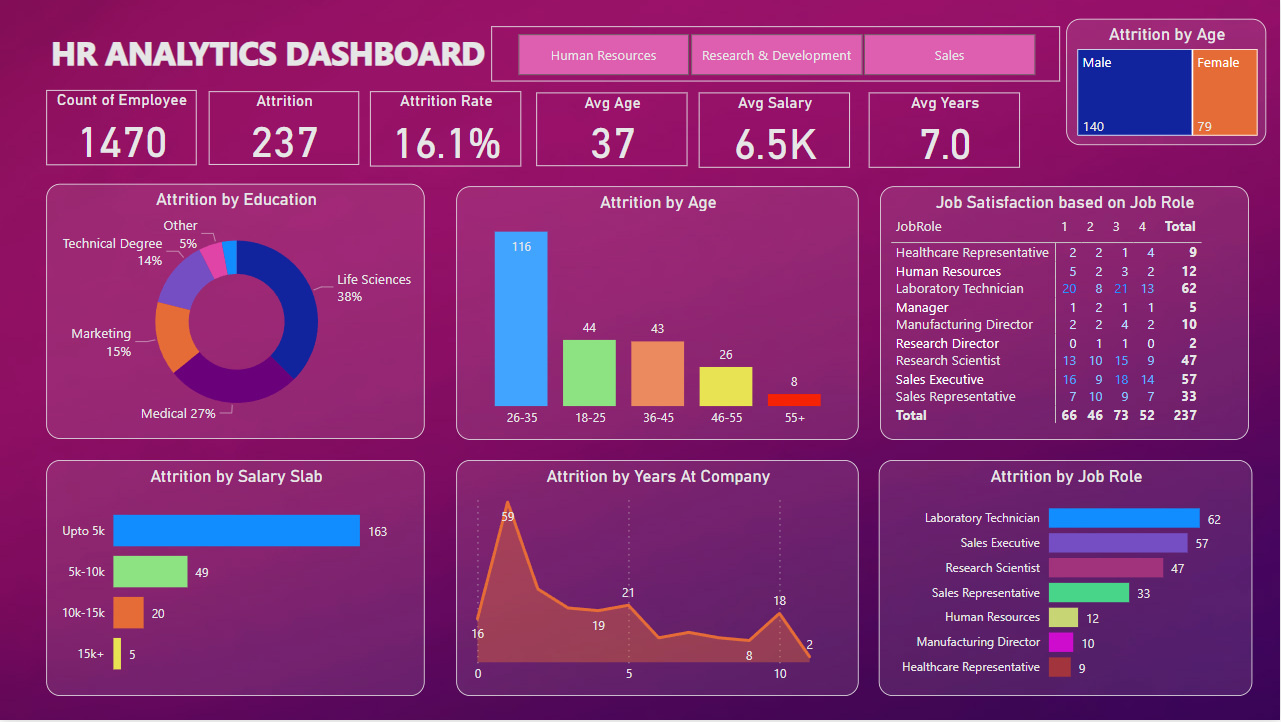

What the dashboard file says about the page in this screenshot:
{"tool":"powerbi","page":{"name":"Page 1","canvas":[1280,720],"ordinal":0},"visuals":[{"type":"card","title":"Count of Employee","fields":{"Values":["CountNonNull(HR_Analytics.EmpID)"]},"box":[46.2,90,150,75],"z":0},{"type":"card","title":"Attrition Rate","fields":{"Values":["HR_Analytics.AttritionRate"]},"box":[370,91.2,151.2,75],"z":1000},{"type":"card","title":"Avg Age","fields":{"Values":["Avg(HR_Analytics.Age)"]},"box":[536.2,92.5,151.2,73.8],"z":2000},{"type":"card","title":"Attrition ","fields":{"Values":["Sum(HR_Analytics.AttritionCount)"]},"box":[208.8,91.2,150,73.8],"z":3000},{"type":"card","title":"Avg Salary","fields":{"Values":["Avg(HR_Analytics.MonthlyIncome)"]},"box":[698.8,92.5,151.2,75],"z":4000},{"type":"card","title":"Avg Years","fields":{"Values":["Avg(HR_Analytics.YearsAtCompany)"]},"box":[868.8,92.5,151.2,75],"z":5000},{"type":"donutChart","title":"Attrition by Education","fields":{"Category":["HR_Analytics.EducationField"],"Y":["Sum(HR_Analytics.AttritionCount)"]},"box":[46.2,183.8,378.8,255],"z":6000},{"type":"columnChart","title":"Attrition by Age","fields":{"Category":["HR_Analytics.AgeGroup"],"Y":["Sum(HR_Analytics.AttritionCount)"]},"box":[456.2,186.2,402.5,253.8],"z":7000},{"type":"pivotTable","title":"Job Satisfaction based on Job Role","fields":{"Rows":["HR_Analytics.JobRole"],"Columns":["HR_Analytics.JobSatisfaction"],"Values":["Sum(HR_Analytics.AttritionCount)"]},"box":[880,186.2,368.8,253.8],"z":8000},{"type":"barChart","title":"Attrition by Salary Slab","fields":{"Category":["HR_Analytics.SalarySlab"],"Y":["Sum(HR_Analytics.AttritionCount)"]},"box":[46.2,460,378.8,236.2],"z":9000},{"type":"barChart","title":"Attrition by Job Role","fields":{"Category":["HR_Analytics.JobRole"],"Y":["Sum(HR_Analytics.AttritionCount)"]},"box":[878.8,460,373.8,236.2],"z":10000},{"type":"areaChart","title":"Attrition by Years At Company","fields":{"Category":["HR_Analytics.YearsAtCompany"],"Y":["Sum(HR_Analytics.AttritionCount)"]},"box":[456.2,460,402.5,236.2],"z":11000},{"type":"treemap","title":"Attrition by Age","fields":{"Group":["HR_Analytics.Gender"],"Values":["Sum(HR_Analytics.AttritionCount)"]},"box":[1066.2,18.8,200,126.2],"z":12000},{"type":"slicer","fields":{"Values":["HR_Analytics.Department"]},"box":[491.2,26.2,568.8,55],"z":13000},{"type":"textbox","box":[46.2,26.2,463.8,55],"z":13001}]}

Visuals, with their boxes in screenshot pixels (x1, y1, x2, y2), scaled from the page's 1280x720 canvas onto the 1281x722 screenshot:
"Count of Employee" card: locate(46, 90, 196, 165)
"Attrition Rate" card: locate(370, 91, 522, 167)
"Avg Age" card: locate(537, 93, 688, 167)
"Attrition " card: locate(209, 91, 359, 165)
"Avg Salary" card: locate(699, 93, 851, 168)
"Avg Years" card: locate(869, 93, 1021, 168)
"Attrition by Education" donutChart: locate(46, 184, 425, 440)
"Attrition by Age" columnChart: locate(457, 187, 859, 441)
"Job Satisfaction based on Job Role" pivotTable: locate(881, 187, 1250, 441)
"Attrition by Salary Slab" barChart: locate(46, 461, 425, 698)
"Attrition by Job Role" barChart: locate(879, 461, 1254, 698)
"Attrition by Years At Company" areaChart: locate(457, 461, 859, 698)
"Attrition by Age" treemap: locate(1067, 19, 1267, 145)
slicer - HR_Analytics.Department: locate(492, 26, 1061, 81)
textbox: locate(46, 26, 510, 81)
